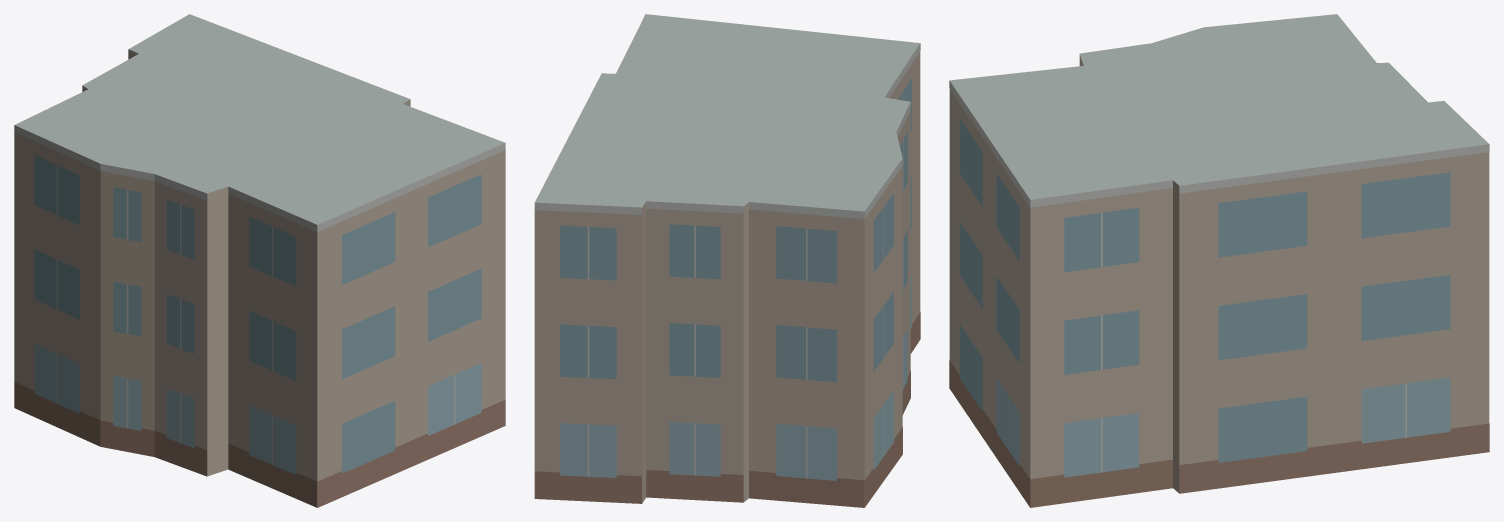
The model's file is survey-upis-32573355.glb.
3 renders of one model, left to right at view 1: azimuth 30°, elevation 25°; view 2: azimuth 150°, elevation 25°; view 3: azimuth 270°, elevation 25°, orthographic. The views are drawn at different scales.
Visible parts, largest first — view 1: survey-upis-32573355.tmp; view 2: survey-upis-32573355.tmp; view 3: survey-upis-32573355.tmp.
Boxes of the visible parts, x1=… form: survey-upis-32573355.tmp: x1=14, y1=14, x2=505, y2=507; survey-upis-32573355.tmp: x1=534, y1=14, x2=920, y2=507; survey-upis-32573355.tmp: x1=949, y1=14, x2=1489, y2=507.
Bounding box in the file's own units: 12.57 × 9.7 × 15.43.
